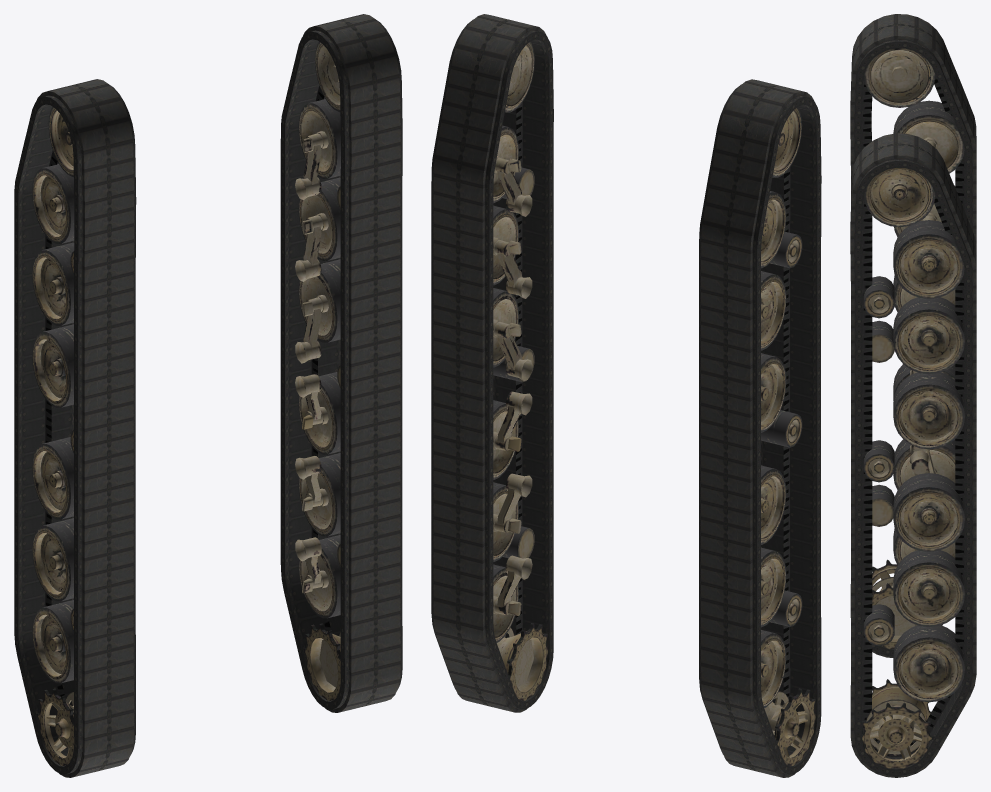
The model's file is Chassis.glb.
3 renders of one model, left to right at view 1: azimuth 30°, elevation 25°; view 2: azimuth 150°, elevation 25°; view 3: azimuth 270°, elevation 25°, orthographic. The views are drawn at different scales.
Visible parts, largest first — view 1: set_0_group_0, set_1_group_0, set_3_group_0, set_2_group_0; view 2: set_0_group_0, set_1_group_0, set_3_group_0, set_2_group_0; view 3: set_3_group_0, set_1_group_0, set_2_group_0, set_0_group_0.
Part boxes in pixels (x1,y1,x2,y2): set_0_group_0: (14,79,136,777); set_1_group_0: (280,14,402,712); set_3_group_0: (295,41,340,700); set_2_group_0: (32,107,74,765); set_0_group_0: (699,79,821,777); set_1_group_0: (431,14,553,712); set_3_group_0: (493,41,547,700); set_2_group_0: (761,107,815,765); set_3_group_0: (862,168,964,768); set_1_group_0: (850,133,976,777); set_2_group_0: (864,48,964,648); set_0_group_0: (850,14,976,657).
Size of the model in its own units: 3.4 by 6.79 by 1.25.
4 materials, 4 textured.
